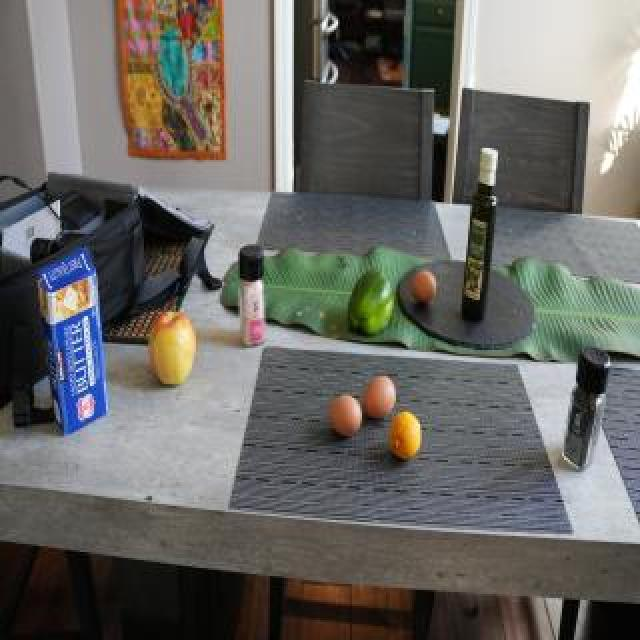Wet: (344, 260, 393, 338), (364, 370, 400, 418), (412, 268, 442, 313), (332, 394, 361, 435)
